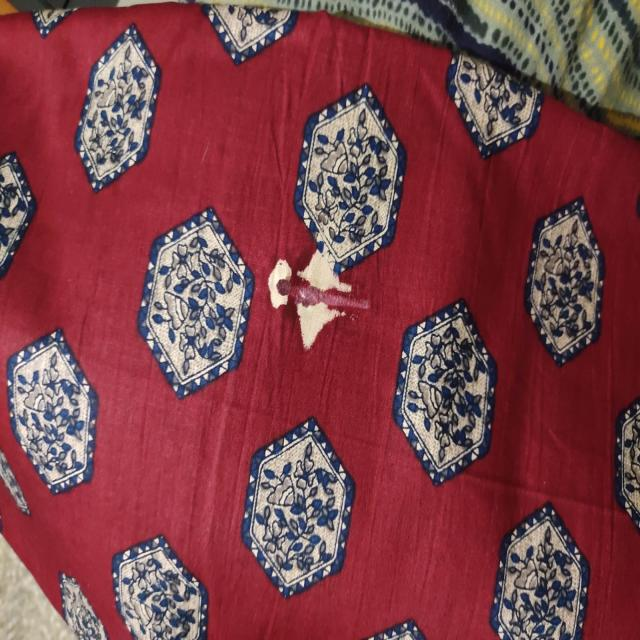stain: (260, 246, 360, 322)
